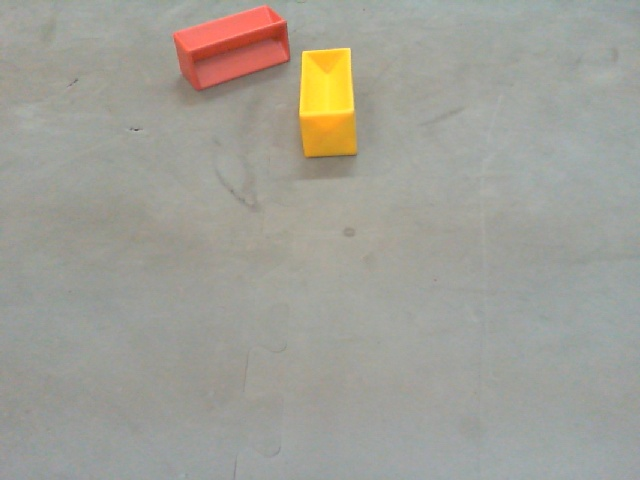RedSample: (173, 5, 290, 95)
YellowSample: (297, 42, 359, 160)
